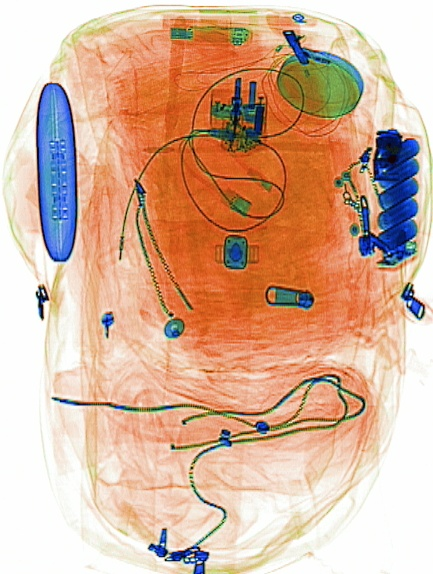powerbank: (372, 132, 421, 270)
